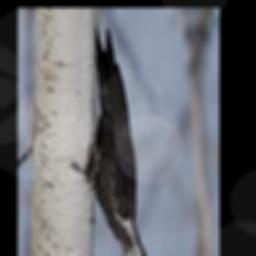Woodpecker: (87, 24, 154, 256)
